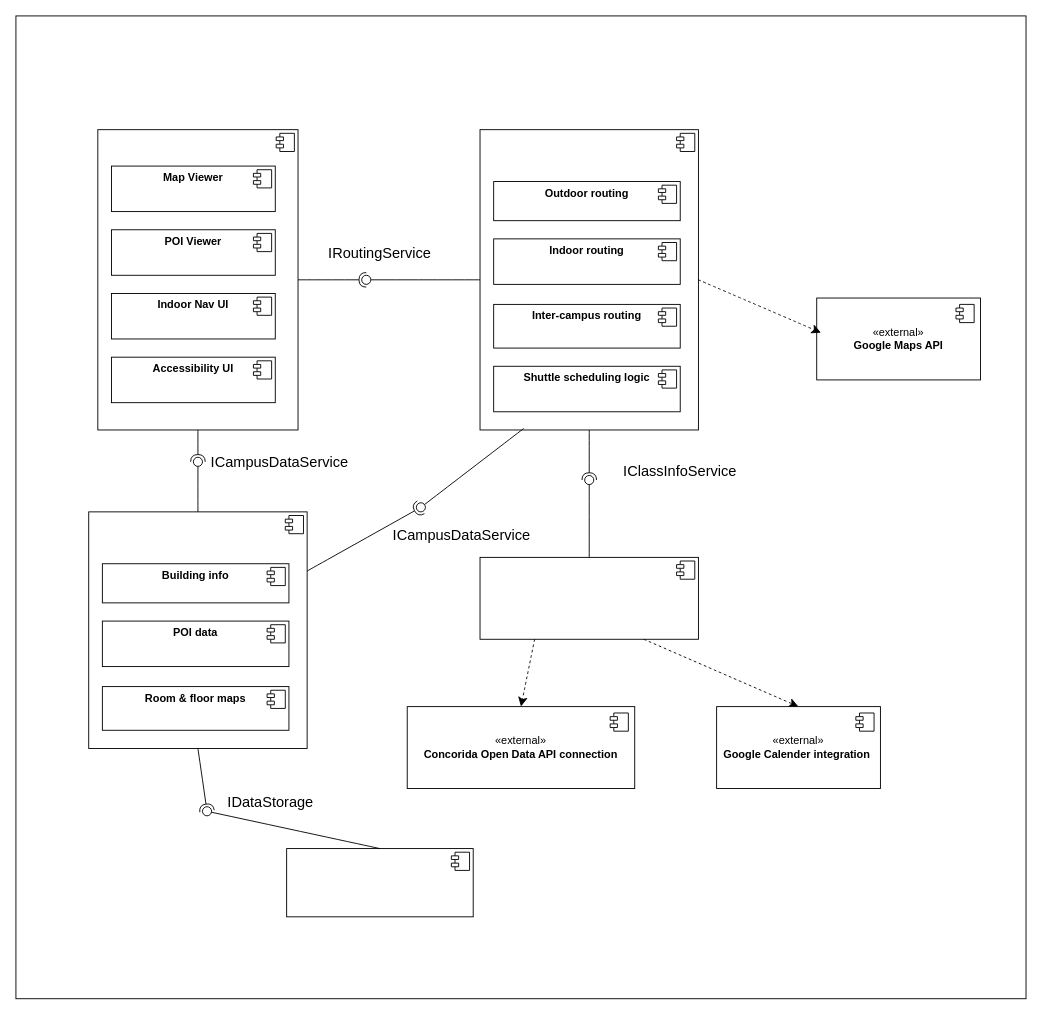
Image size: 1042x1015. Some labels were removed from this diagram. Each missing label, with the box of its shape:
Campus Data Service: (88, 511, 307, 748)
Data Storage: (286, 848, 473, 917)
Mobile App: (97, 129, 298, 430)
Navigation Service: (479, 129, 698, 430)
User Integration Service: (479, 556, 698, 639)
